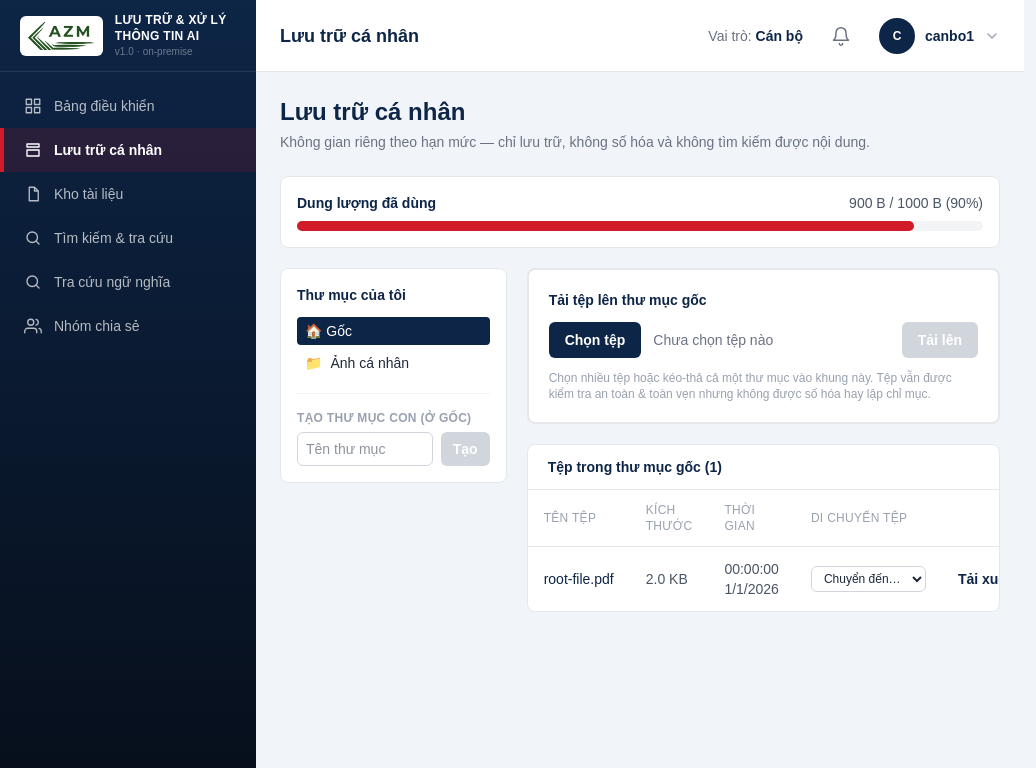
Scenario: PersonalPage › creates a folder and shows a success message
expect the button "📁 Ảnh cá nhân" is shown: met, box 297,349 -> 490,377
Type "Mới" into the field with placeholder "Tên thư mục" at (365, 449), box 297,432 -> 433,466
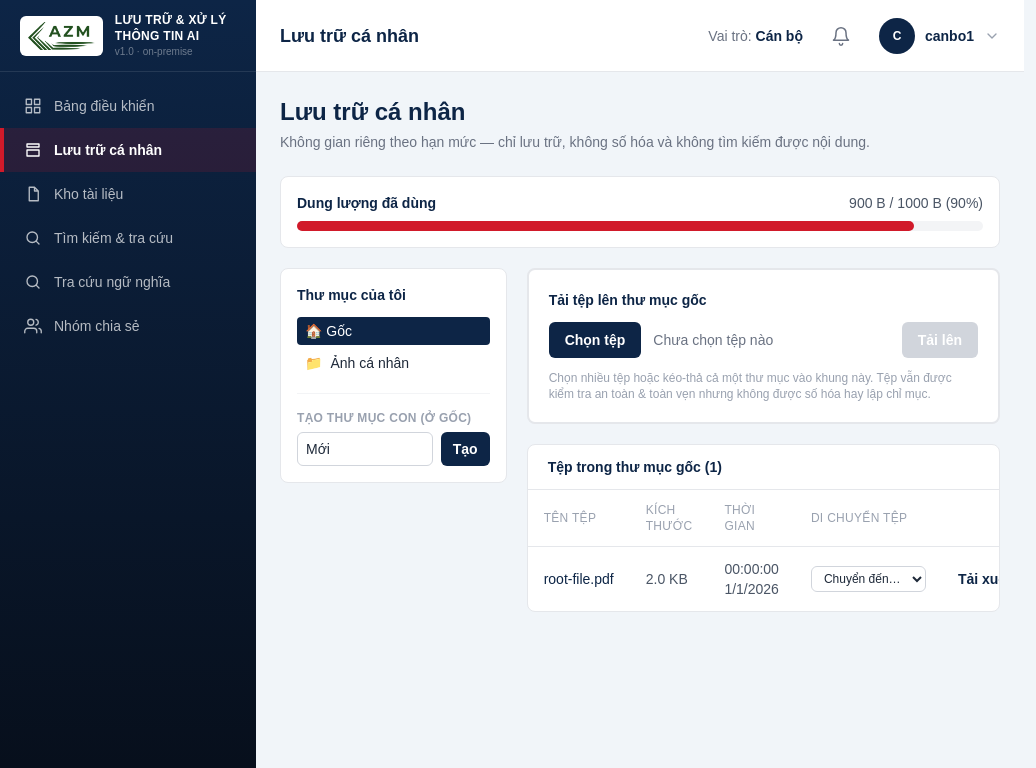
Click the button "Tạo" at (465, 449), box 441,432 -> 490,466
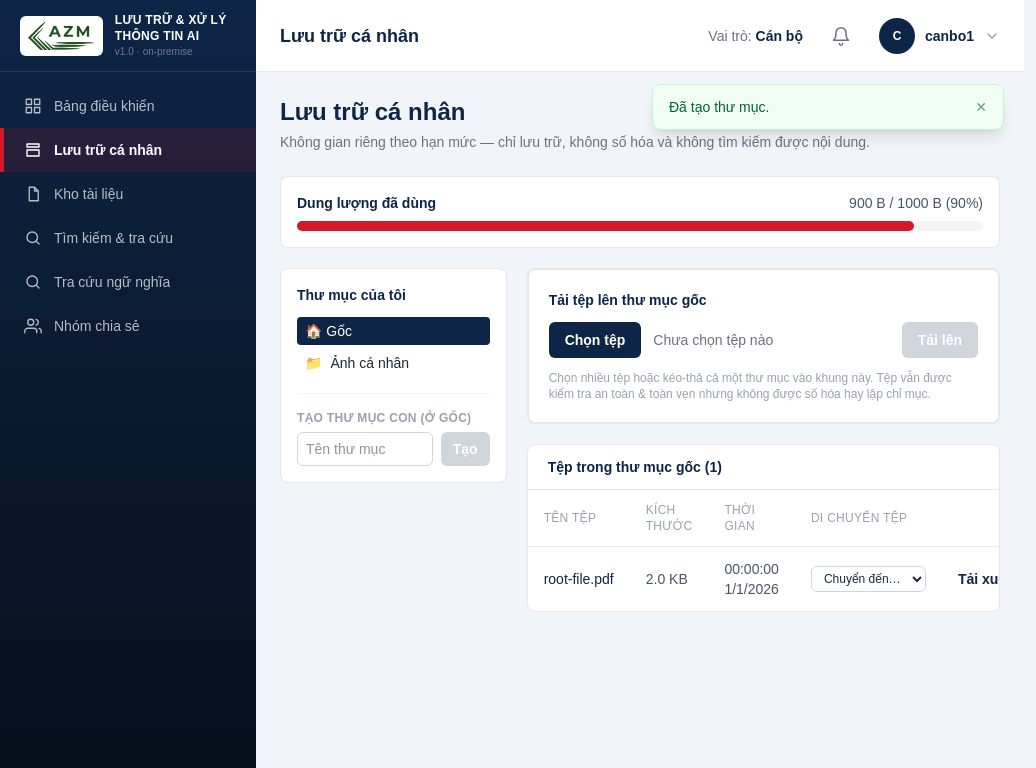
expect the text "Đã tạo thư mục." is shown: met, box 669,99 -> 769,115
